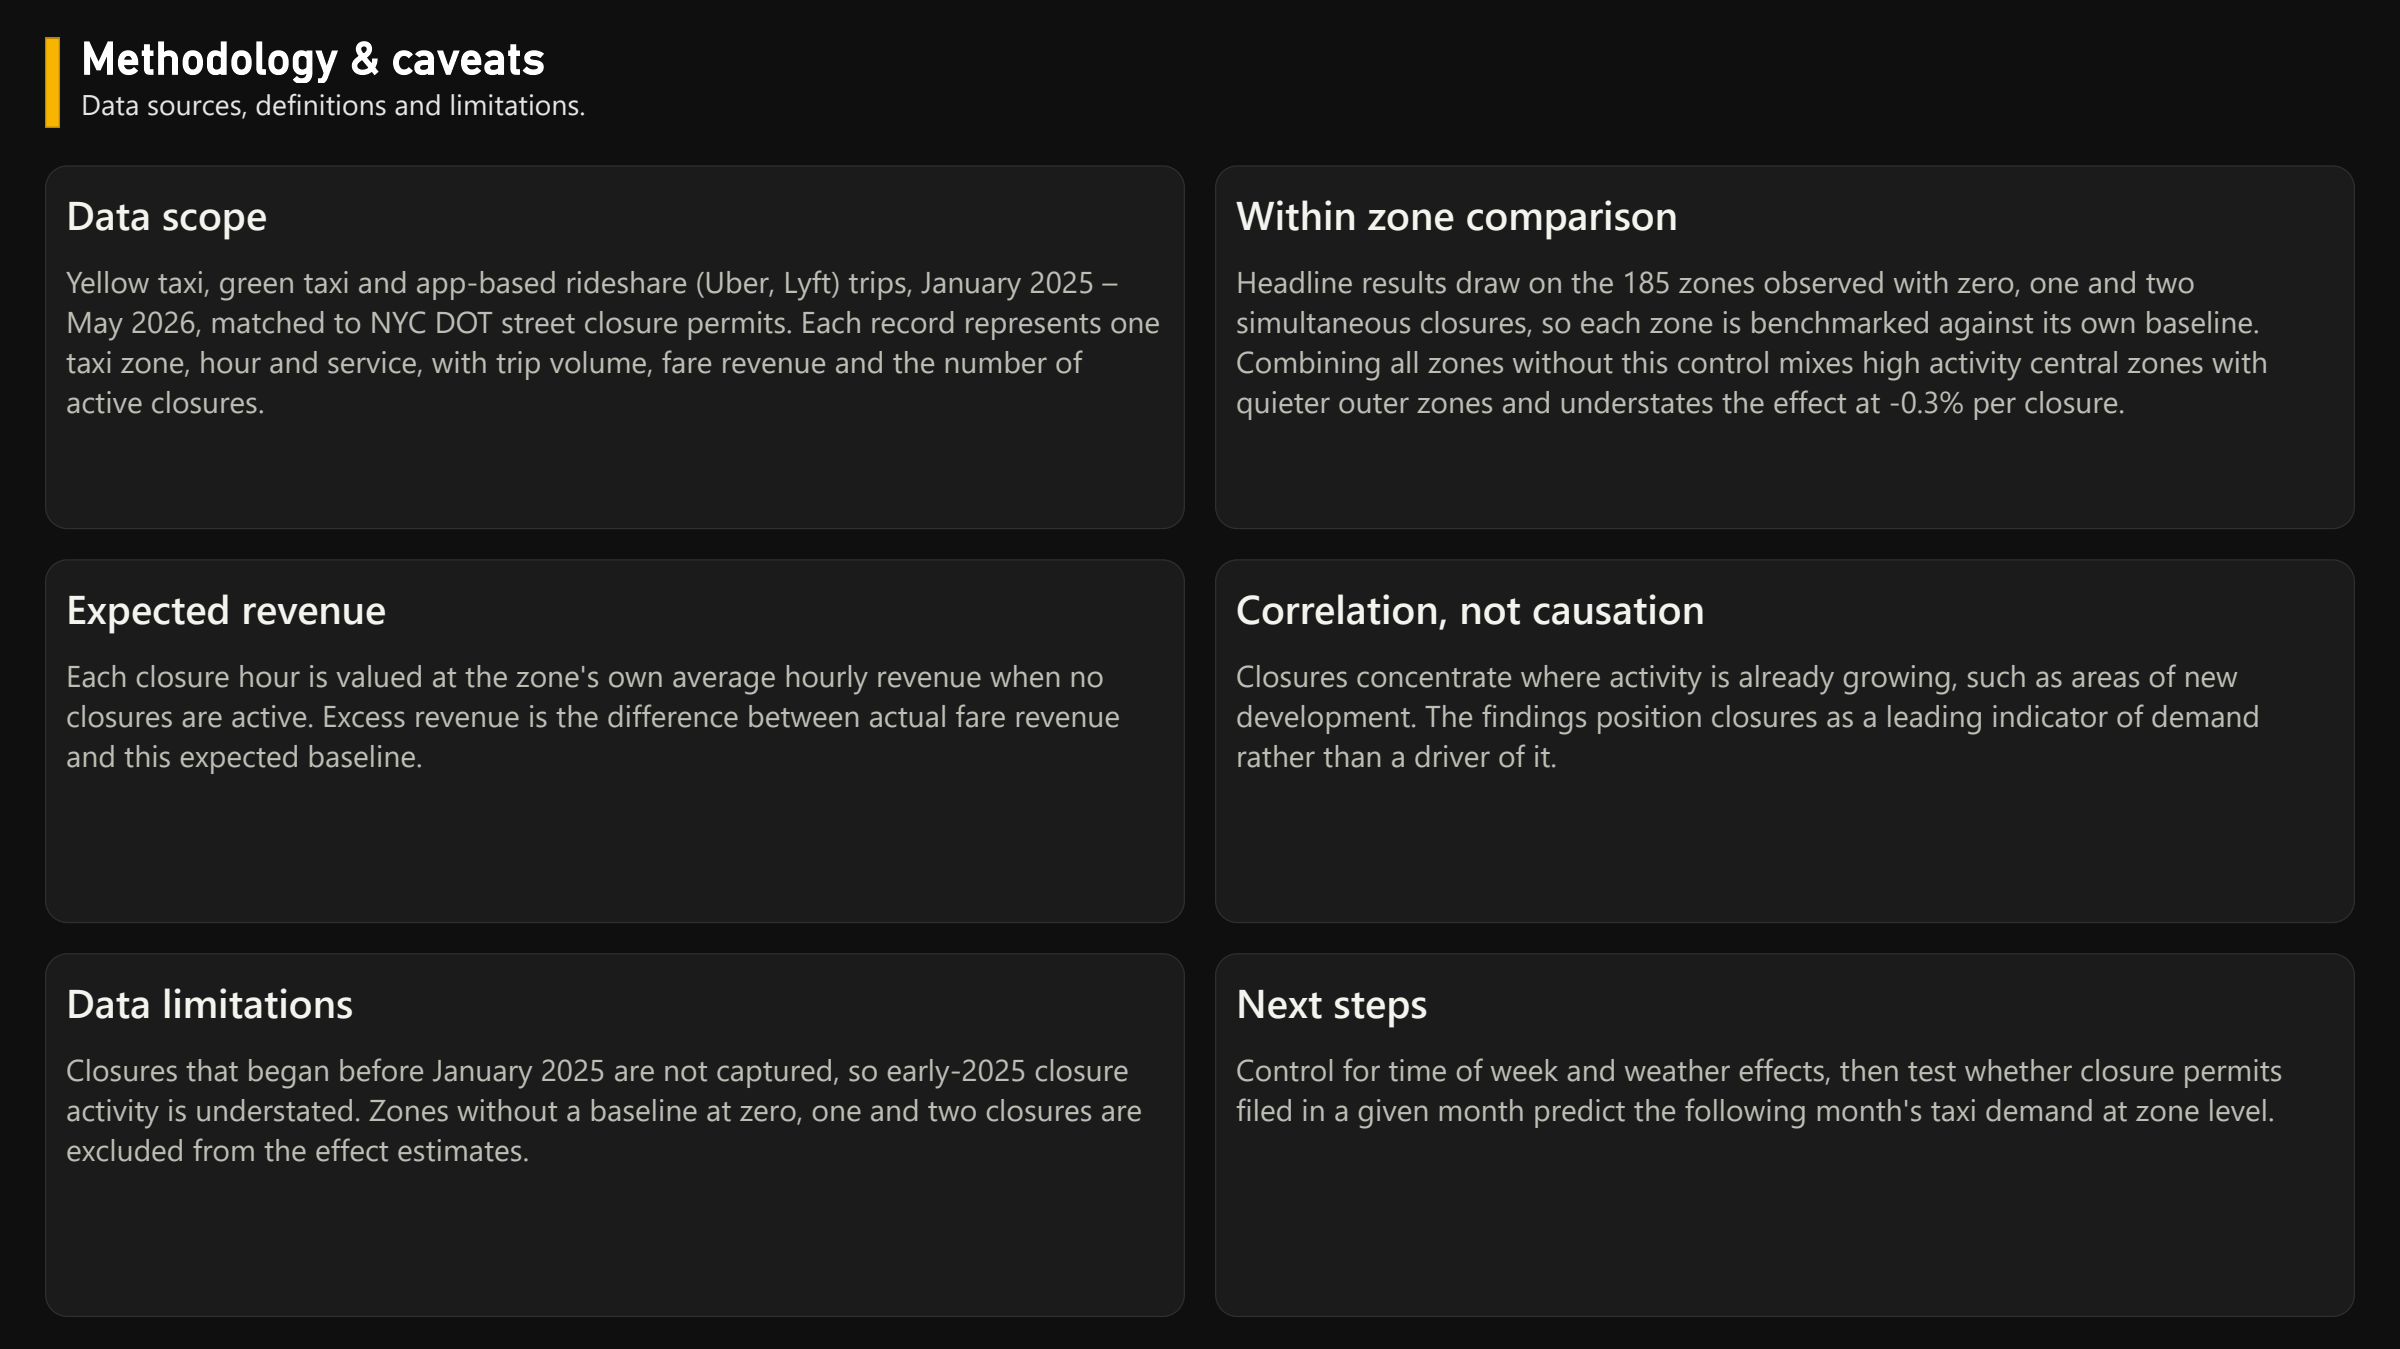

The dashboard page shown, as its layout file describes it:
{"tool":"powerbi","page":{"name":"Page 4","canvas":[1920,1080],"ordinal":3},"visuals":[{"type":"shape","box":[36,30,12,72],"z":0},{"type":"textbox","title":"Methodology & caveats","box":[65,25,1037.5,72],"z":1000},{"type":"textbox","title":"Data scope","box":[36,132,912,291],"z":2000},{"type":"textbox","title":"Within zone comparison","box":[972,132,912,291],"z":2001},{"type":"textbox","title":"Expected revenue","box":[36,447,912,291],"z":2002},{"type":"textbox","title":"Correlation, not causation","box":[972,447,912,291],"z":2003},{"type":"textbox","title":"Data limitations","box":[36,762,912,291],"z":2004},{"type":"textbox","title":"Next steps ","box":[972,762,912,291],"z":2005}]}

Visuals, with their boxes in screenshot pixels (x1, y1, x2, y2), scaled from the page's 1920x1080 canvas onto the 2400x1349 screenshot:
shape: region(45, 37, 60, 127)
"Methodology & caveats" textbox: region(81, 31, 1378, 121)
"Data scope" textbox: region(45, 165, 1185, 528)
"Within zone comparison" textbox: region(1215, 165, 2355, 528)
"Expected revenue" textbox: region(45, 558, 1185, 922)
"Correlation, not causation" textbox: region(1215, 558, 2355, 922)
"Data limitations" textbox: region(45, 952, 1185, 1315)
"Next steps " textbox: region(1215, 952, 2355, 1315)
